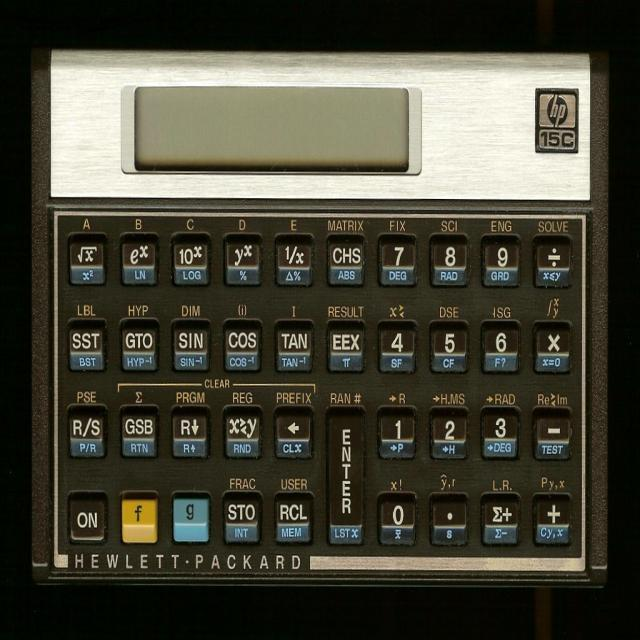Calculator: (32, 47, 609, 593)
